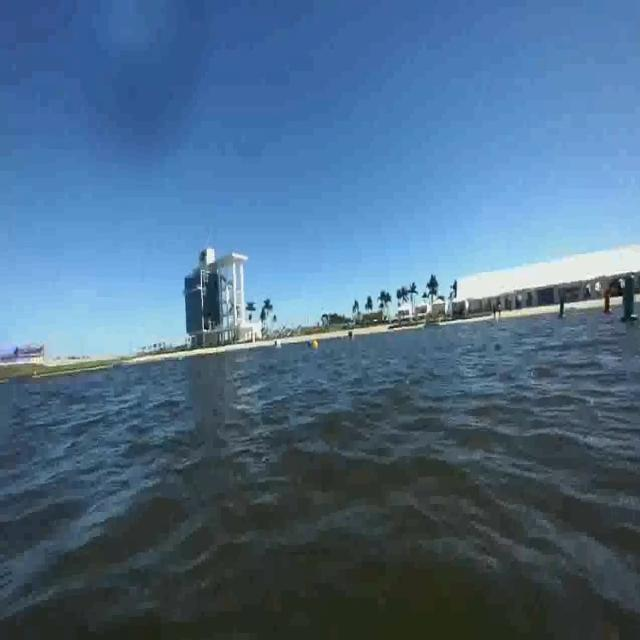green-column-buoy: (619, 272, 639, 323)
red-column-buoy: (602, 288, 613, 317)
yellow-buoy: (313, 340, 319, 351)
